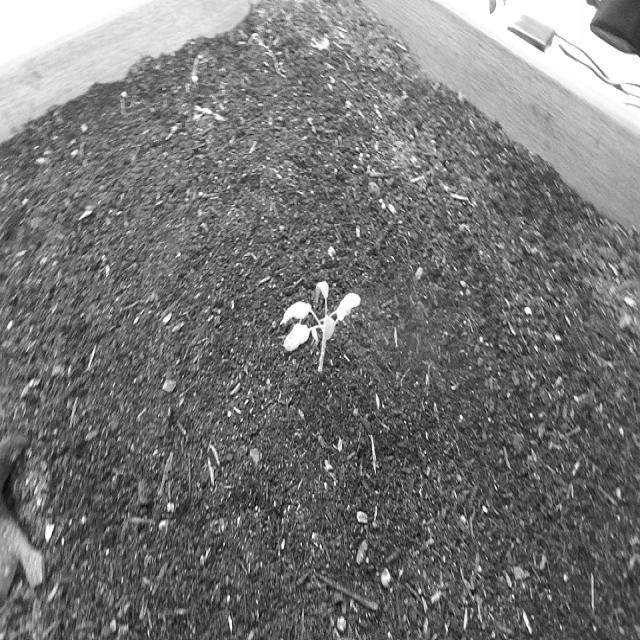Healthy: (275, 270, 363, 384)
